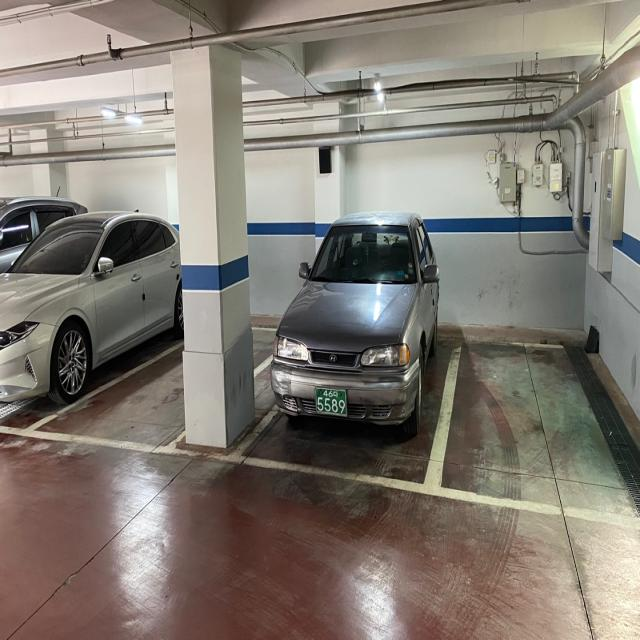empty: (422, 339, 640, 528)
occupied: (272, 215, 443, 421), (0, 209, 182, 388)
